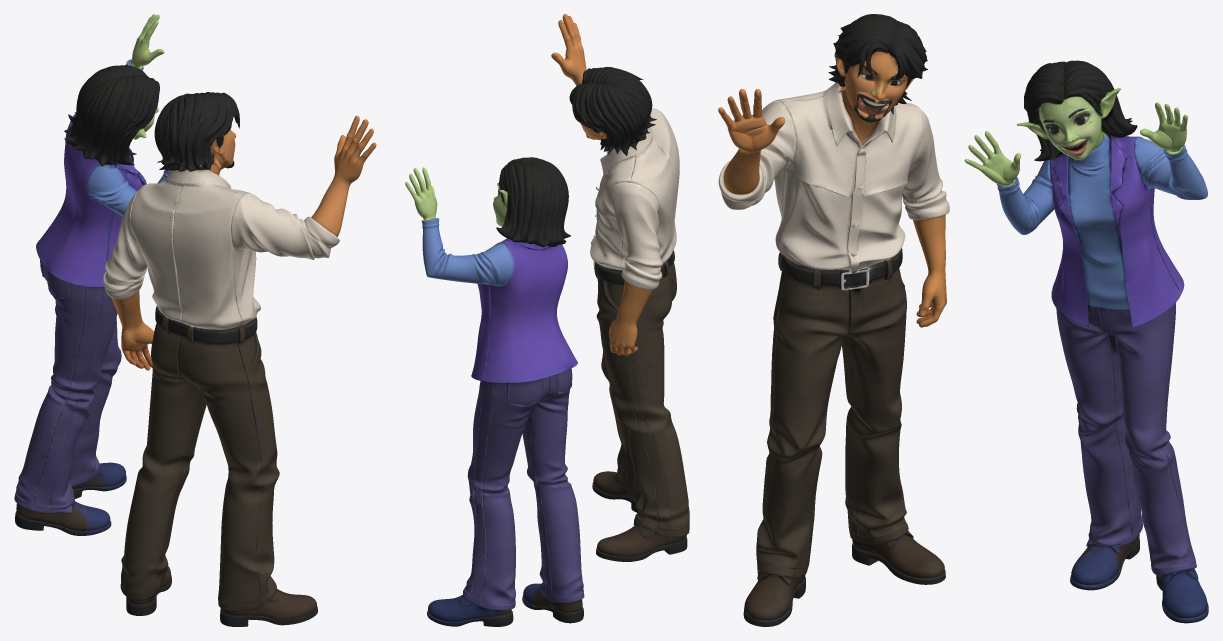
The model's file is goodbye-lumi.glb.
The picture shows the model from 3 angles, left to right: view 1: azimuth 30°, elevation 25°; view 2: azimuth 150°, elevation 25°; view 3: azimuth 270°, elevation 25°; orthographic projection. The views are drawn at different scales.
Parts seen in each view (by area): view 1: tripo_node_77309efc-5d3d-43a6-88cb-cbfafba9a88d; view 2: tripo_node_77309efc-5d3d-43a6-88cb-cbfafba9a88d; view 3: tripo_node_77309efc-5d3d-43a6-88cb-cbfafba9a88d.
Boxes of the visible parts, x1,y1,x2,y2 form: tripo_node_77309efc-5d3d-43a6-88cb-cbfafba9a88d: (14, 14, 376, 626); tripo_node_77309efc-5d3d-43a6-88cb-cbfafba9a88d: (405, 14, 689, 626); tripo_node_77309efc-5d3d-43a6-88cb-cbfafba9a88d: (718, 14, 1208, 626).
Size of the model in its own units: 0.3965 by 0.9999 by 0.7763.
Materials: 1 (1 with a texture image).
